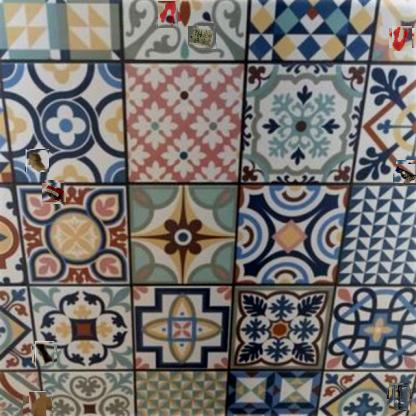dirty: (190, 24, 216, 50), (386, 385, 412, 409), (25, 393, 49, 416), (26, 149, 49, 172), (33, 342, 56, 364), (394, 161, 416, 184), (43, 181, 65, 203)
liquid: (156, 2, 180, 26), (390, 27, 414, 50)
